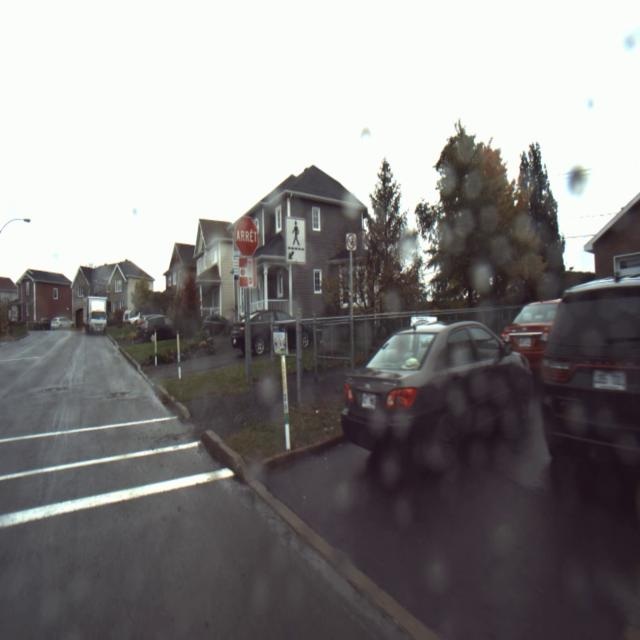truck: (79, 288, 109, 344)
